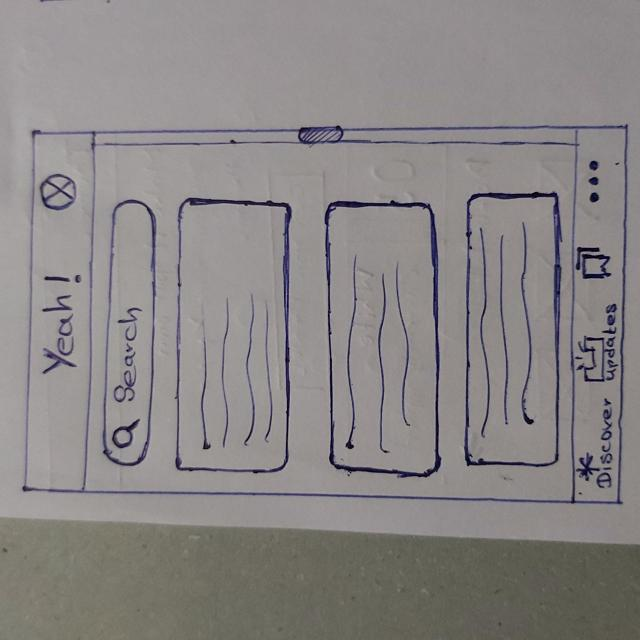AppBar: (21, 127, 88, 495)
BottomNavBar: (572, 127, 622, 502)
BottomNavItems: (575, 289, 622, 390), (573, 393, 617, 499), (578, 136, 623, 221), (575, 224, 622, 287)
CardView: (322, 198, 445, 477), (175, 195, 292, 475), (462, 189, 566, 470)
EditText: (101, 197, 159, 468)
Icon: (111, 418, 142, 448)
Image: (39, 172, 79, 212)
ListView: (166, 180, 571, 496)
MainLayout: (21, 121, 629, 512)
MultiLineText: (340, 249, 418, 457), (475, 216, 546, 444), (191, 278, 279, 454)
ScrollBar: (91, 125, 577, 146)
ScrollView: (92, 146, 575, 501)
TextView: (38, 272, 85, 377)
VerticalListView: (166, 181, 572, 499)
